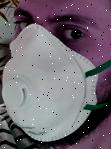with_mask: (2, 1, 111, 149)
